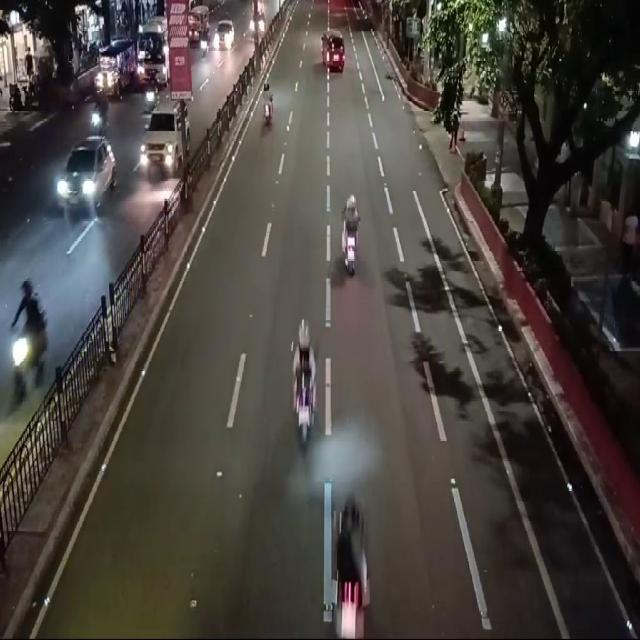car: (52, 129, 122, 227), (138, 104, 192, 186), (314, 21, 354, 80), (212, 10, 239, 58)
motorcycle: (328, 483, 380, 638), (3, 277, 57, 411), (288, 318, 326, 454), (337, 189, 363, 283), (254, 71, 280, 135)
